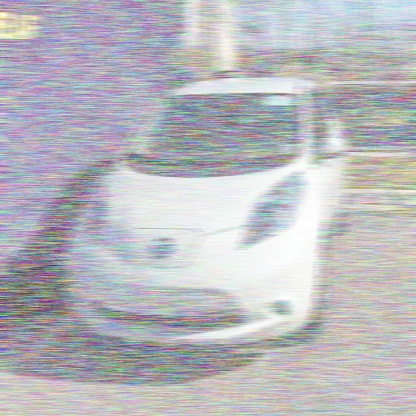Vehicle: (63, 76, 348, 347)
